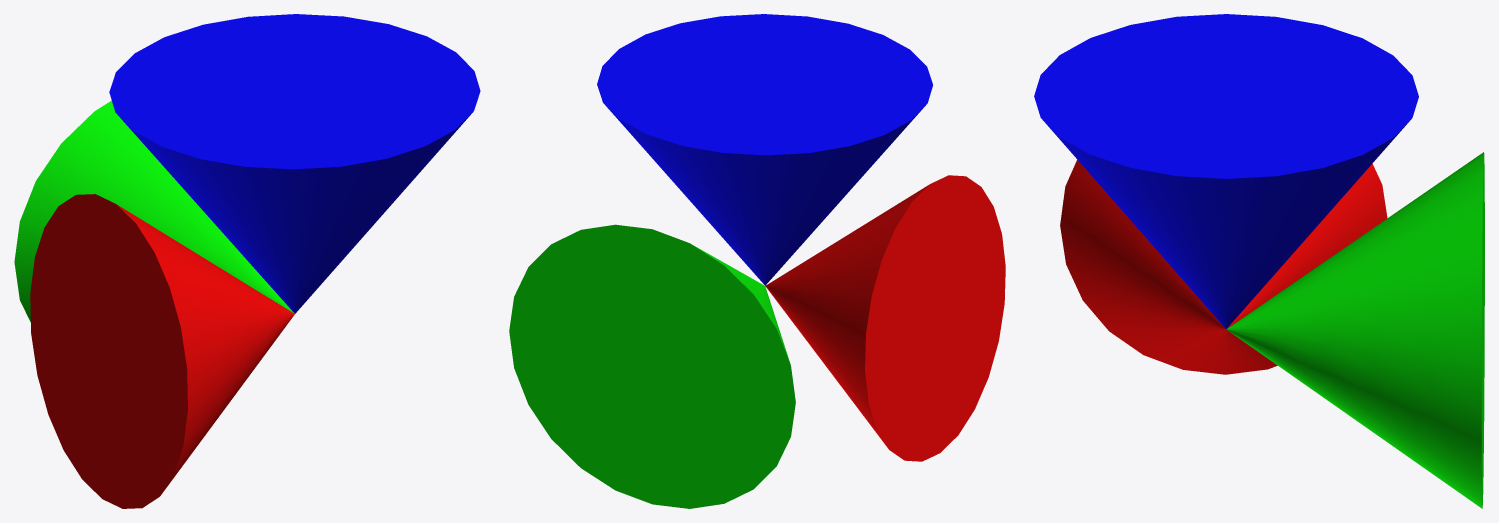
The model's file is ranges_cones.FBX.
3 views of the same model, side by side, from view 1: azimuth 30°, elevation 25°; view 2: azimuth 150°, elevation 25°; view 3: azimuth 270°, elevation 25° (orthographic). The views are drawn at different scales.
Visible parts, largest first — view 1: Object001; view 2: Object001; view 3: Object001.
Boxes of the visible parts, x1,y1,x2,y2 form: Object001: (14, 14, 480, 508); Object001: (509, 14, 1005, 508); Object001: (1034, 14, 1484, 508).
Bounding box in the file's own units: 38.69 × 40.66 × 39.05.
